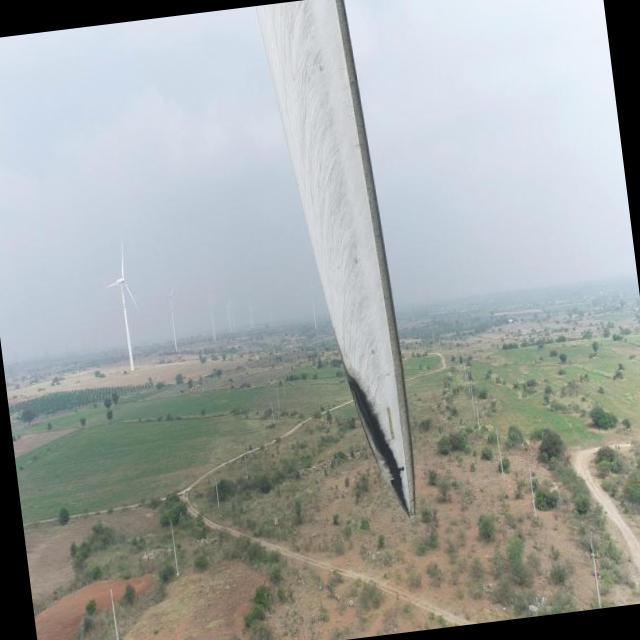Dirt: (260, 1, 419, 512)
Oil LEAKAGE: (346, 374, 410, 516)
Pin Hole: (396, 466, 407, 476)
